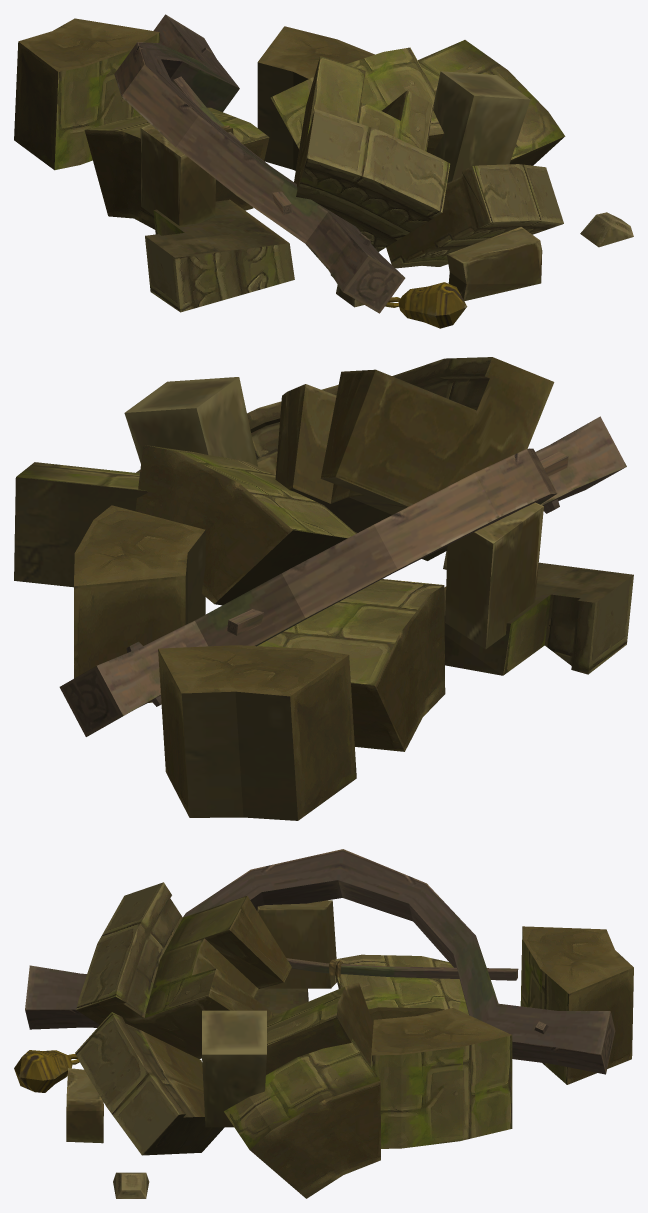
The model's file is stone_bridge_destroyed_04.fbx.
3 views of the same model, one above another, from view 1: azimuth 30°, elevation 25°; view 2: azimuth 150°, elevation 25°; view 3: azimuth 270°, elevation 25° (orthographic). The views are drawn at different scales.
Parts seen in each view (by area): view 1: obj3.004; view 2: obj3.004; view 3: obj3.004.
Part boxes in pixels (bbox=[...]): obj3.004: bbox=[14, 14, 633, 328]; obj3.004: bbox=[14, 357, 633, 820]; obj3.004: bbox=[14, 849, 633, 1198].
Size of the model in its own units: 5.43 by 2.69 by 7.14.
